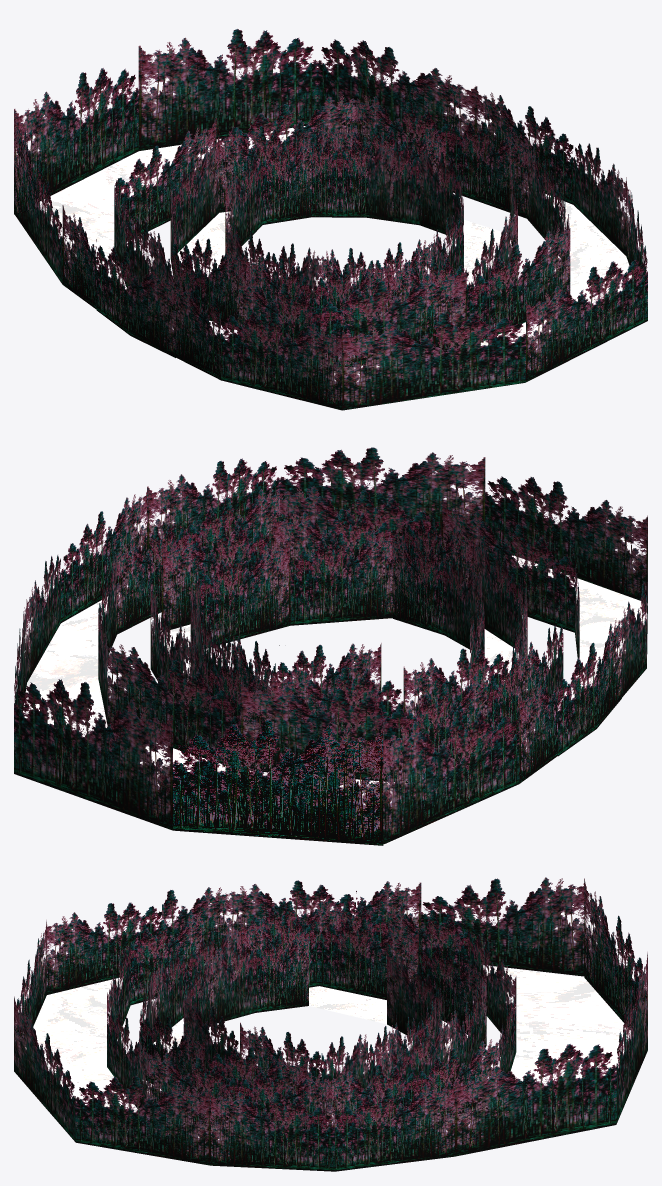
File: abyss_perimeter_v2.glb
The picture shows the model from 3 angles, top to bottom: view 1: azimuth 30°, elevation 25°; view 2: azimuth 150°, elevation 25°; view 3: azimuth 270°, elevation 25°; orthographic projection. The views are drawn at different scales.
Visible parts, largest first — view 1: abyss_perimeter.001, abyss_perimeter; view 2: abyss_perimeter.001, abyss_perimeter; view 3: abyss_perimeter.001, abyss_perimeter.
Boxes of the visible parts, box(x1,y1,x2,y2) form: abyss_perimeter.001: box(14, 29, 647, 410); abyss_perimeter: box(170, 121, 517, 330); abyss_perimeter.001: box(14, 447, 647, 845); abyss_perimeter: box(150, 508, 527, 737); abyss_perimeter.001: box(14, 877, 647, 1171); abyss_perimeter: box(139, 915, 486, 1122).
Bounding box in the file's own units: 199 × 44.64 × 249.
2 materials, 1 textured.
